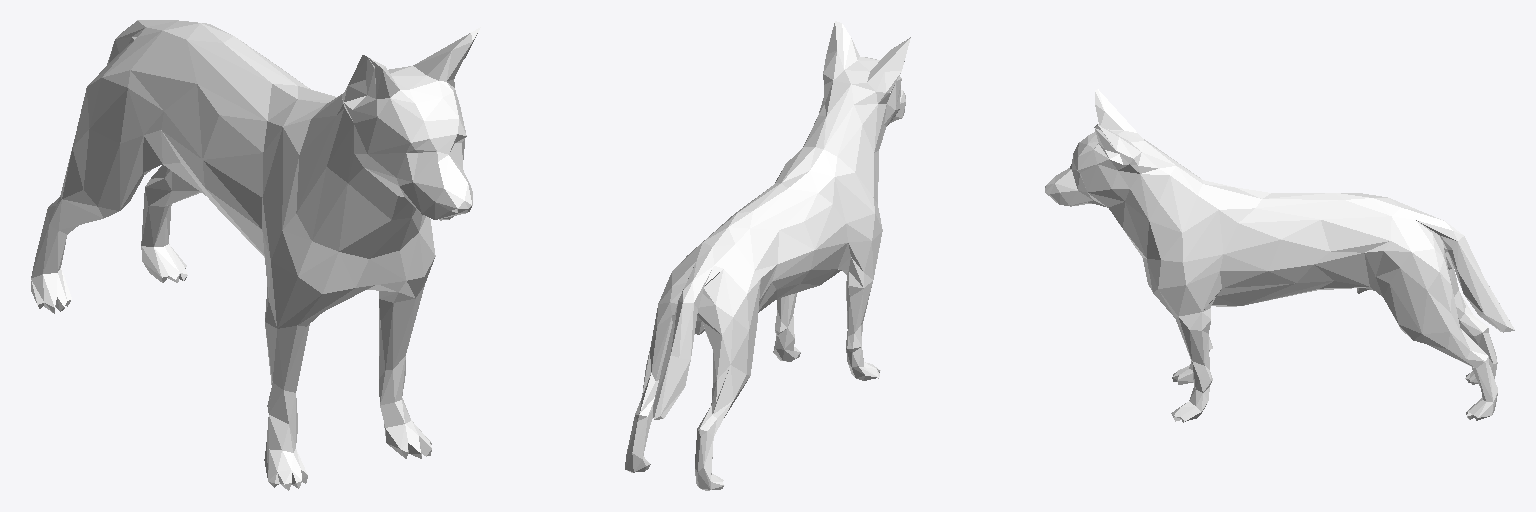
The robot description file, URDF, robot "simple_dog5.obj":
<robot name="simple_dog5.obj">
	<link name="_name">
		<visual>
			<origin xyz="0 0 0" rpy="0 0 0" />
			<geometry>
				<mesh filename="simple_dog5.obj" scale="0.1 0.1 0.1" />
			</geometry>
			<material name="texture">
				<color rgba="1.0 1.0 1.0 1.0" />
			</material>
		</visual>
		<collision>
			<geometry>
				<mesh filename="simple_dog5_vhacd.obj" scale="0.1 0.1 0.1" />
			</geometry>
		</collision>
		<inertial>
			<mass value="1.0" />
			<inertia ixx="1.0" ixy="0.0" ixz="0.0" iyy="1.0" iyz="0.0" izz="1.0" />
		</inertial>
	</link>
</robot>

--- Render facts (derived) ---
Views: 3 orthographic renders of the robot side by side, from view 1: azimuth 30°, elevation 25°; view 2: azimuth 150°, elevation 25°; view 3: azimuth 270°, elevation 25°.
Robot: simple_dog5.obj — 1 links, 0 joints (none); root link _name; default pose: every joint at zero.
Visible links, largest first — view 1: _name; view 2: _name; view 3: _name.
Boxes of the visible links, bbox=[...] form: _name: bbox=[31, 20, 480, 490]; _name: bbox=[625, 21, 910, 490]; _name: bbox=[1045, 89, 1514, 422].
Bounding box of the posed robot: 0.9473 × 3.88 × 2.67 m (x, y, z).
Meshes: 1 distinct files referenced, 1 mesh visuals loaded (1 OBJ).